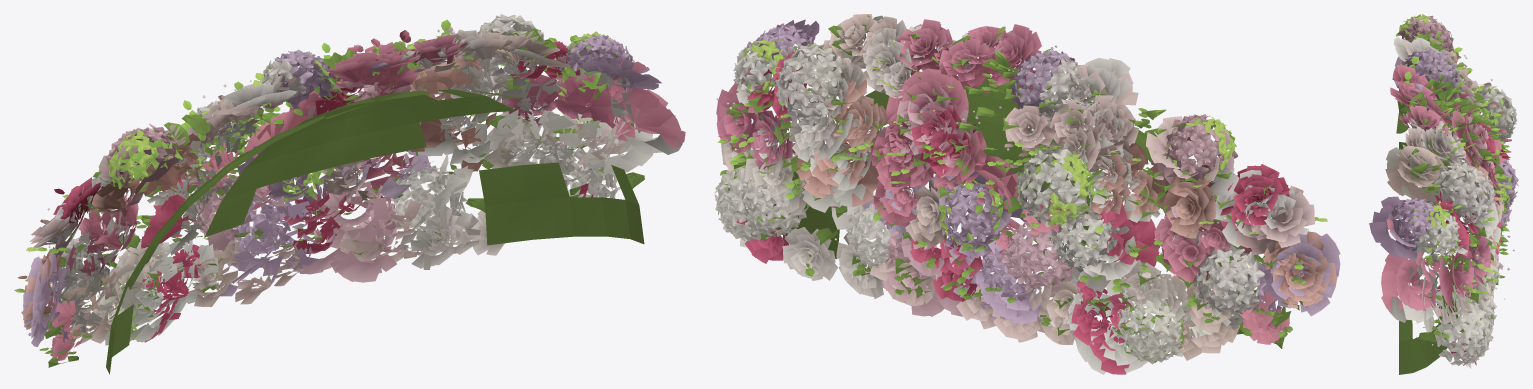
Rendered from vr27n_D_bank_bright_v10.glb.
3 renders of one model, left to right at view 1: azimuth 30°, elevation 25°; view 2: azimuth 150°, elevation 25°; view 3: azimuth 270°, elevation 25°, orthographic. The views are drawn at different scales.
Parts seen in each view (by area): view 1: petals; view 2: petals; view 3: petals.
Part boxes in pixels (<box>): petals: <box>14,14,685,374</box>; petals: <box>714,14,1340,374</box>; petals: <box>1369,14,1518,374</box>.
Bounding box in the file's own units: 0.0235 × 0.0101 × 0.00602.
